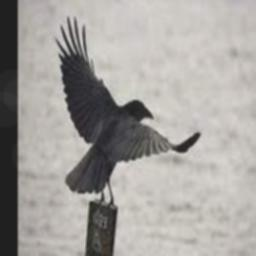Crow: (55, 14, 201, 205)
